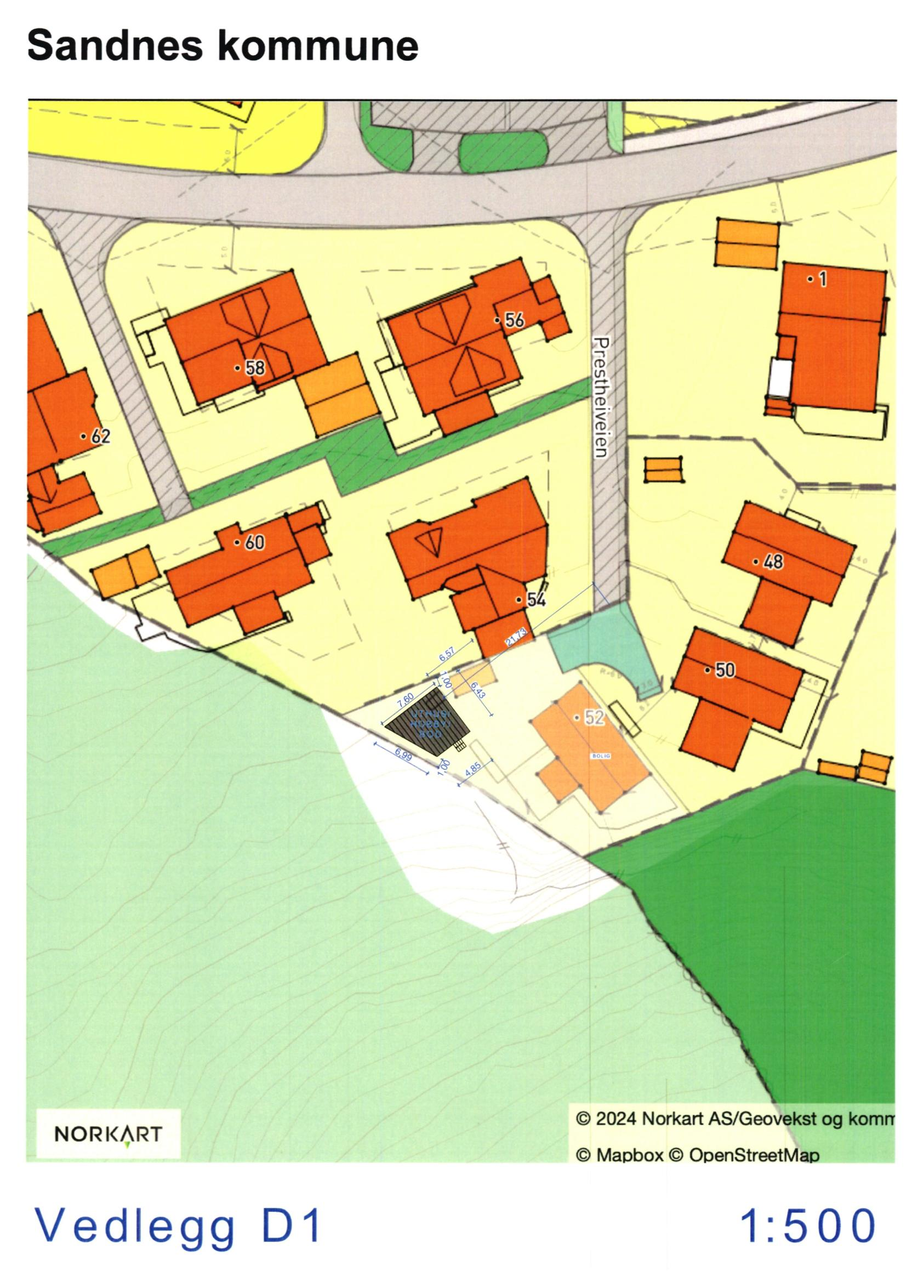situasjonskart: (28, 97, 896, 1161)
